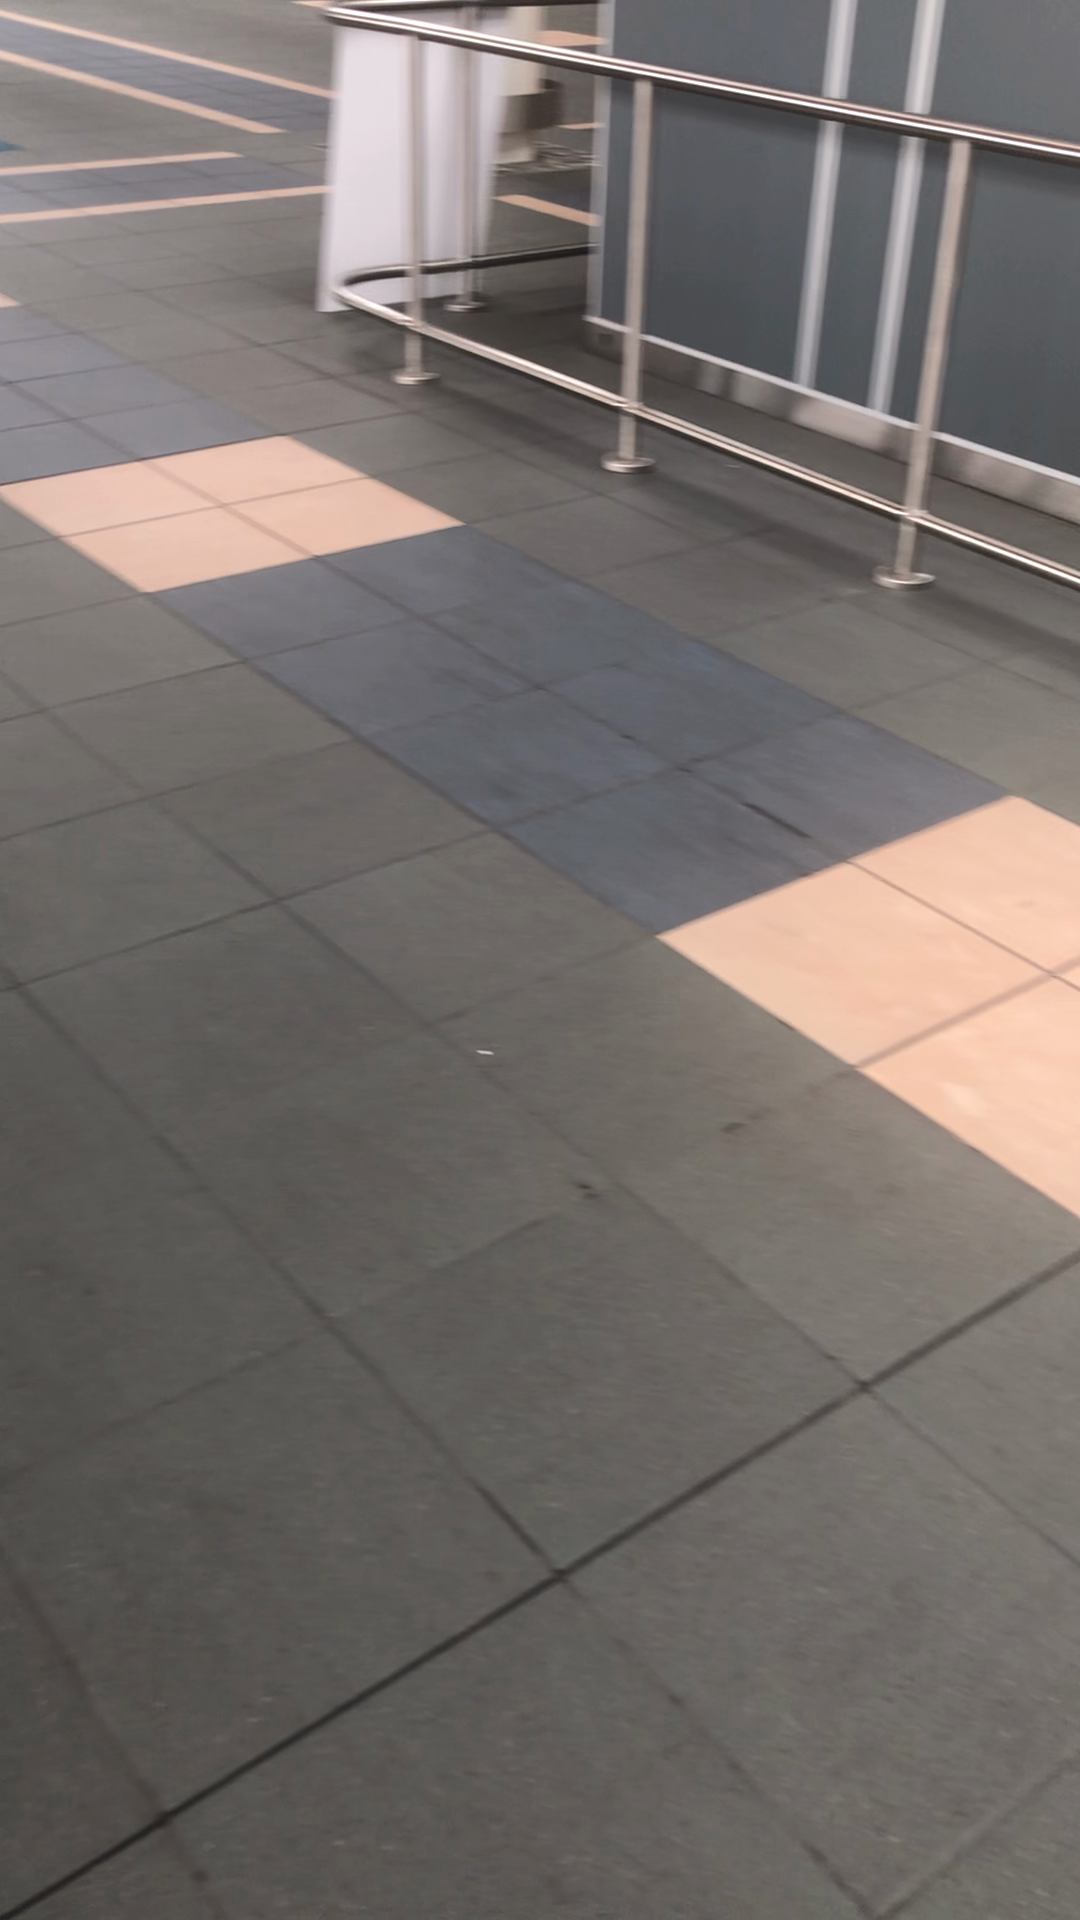Garbage: (468, 1036, 514, 1076)
